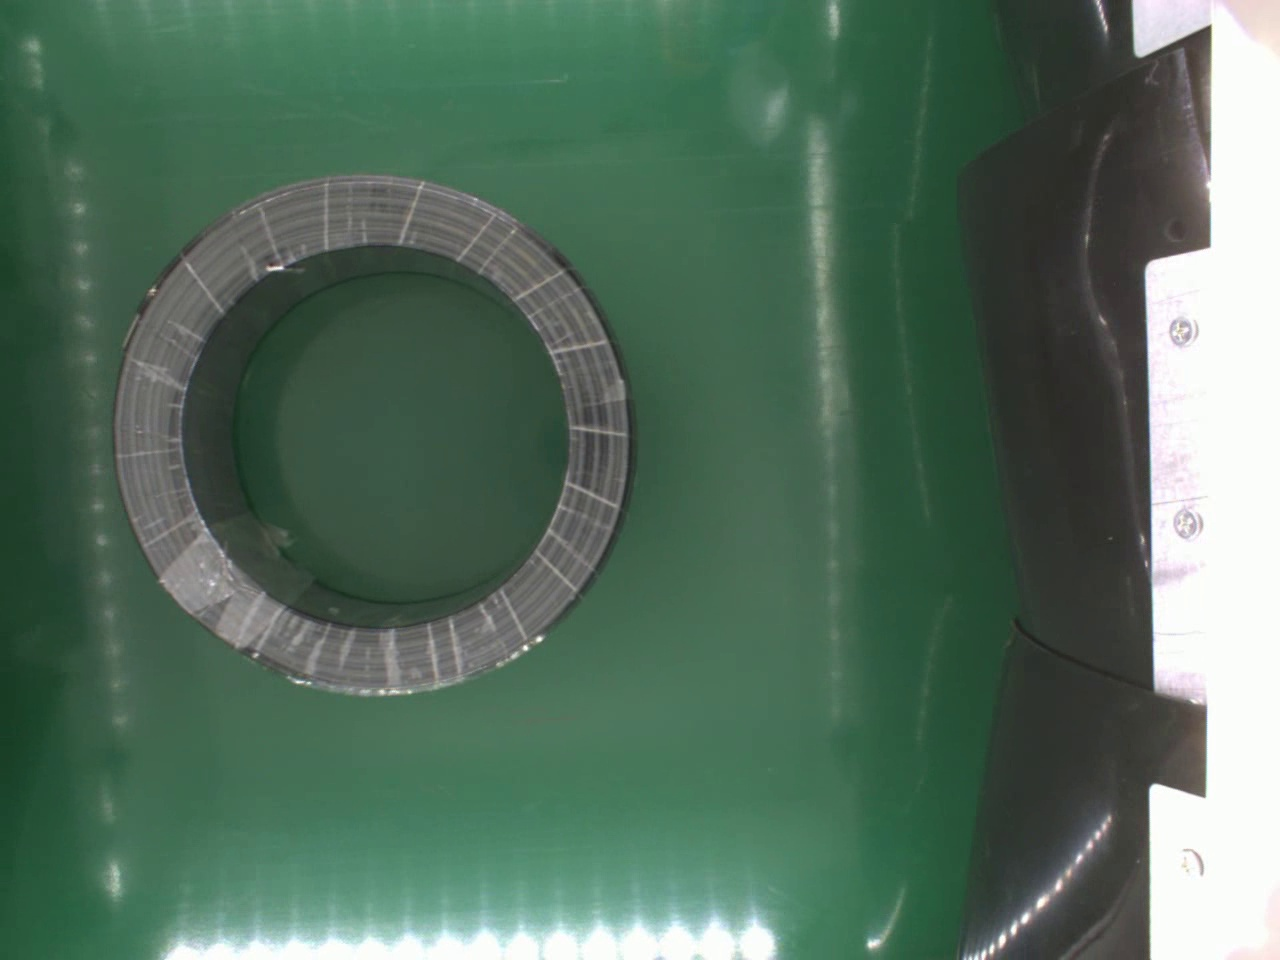black: (108, 168, 634, 702)
